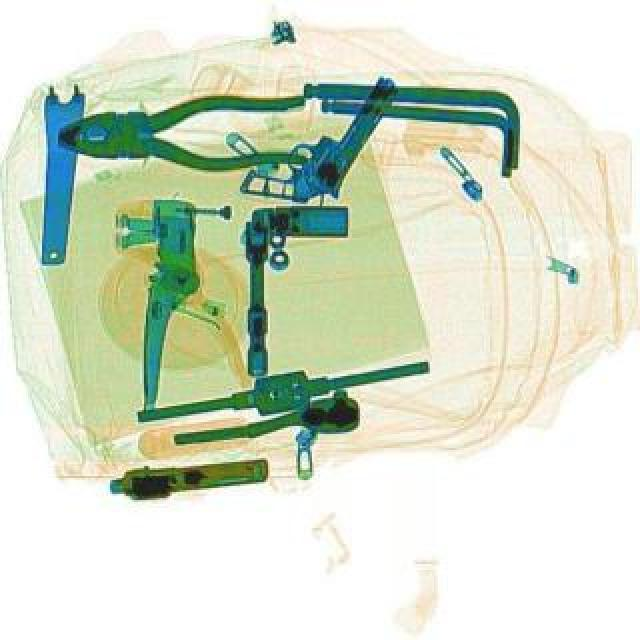gun: (236, 46, 408, 230), (106, 450, 270, 502)
wrench: (56, 94, 304, 170)
